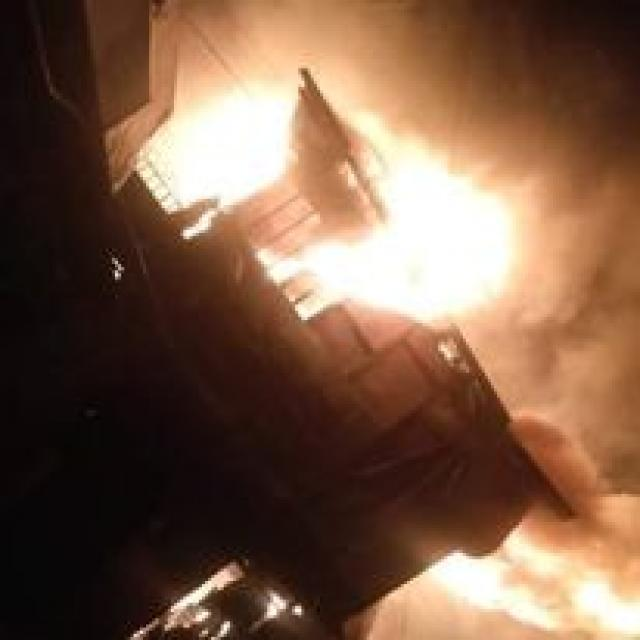Fire: (190, 88, 510, 334)
